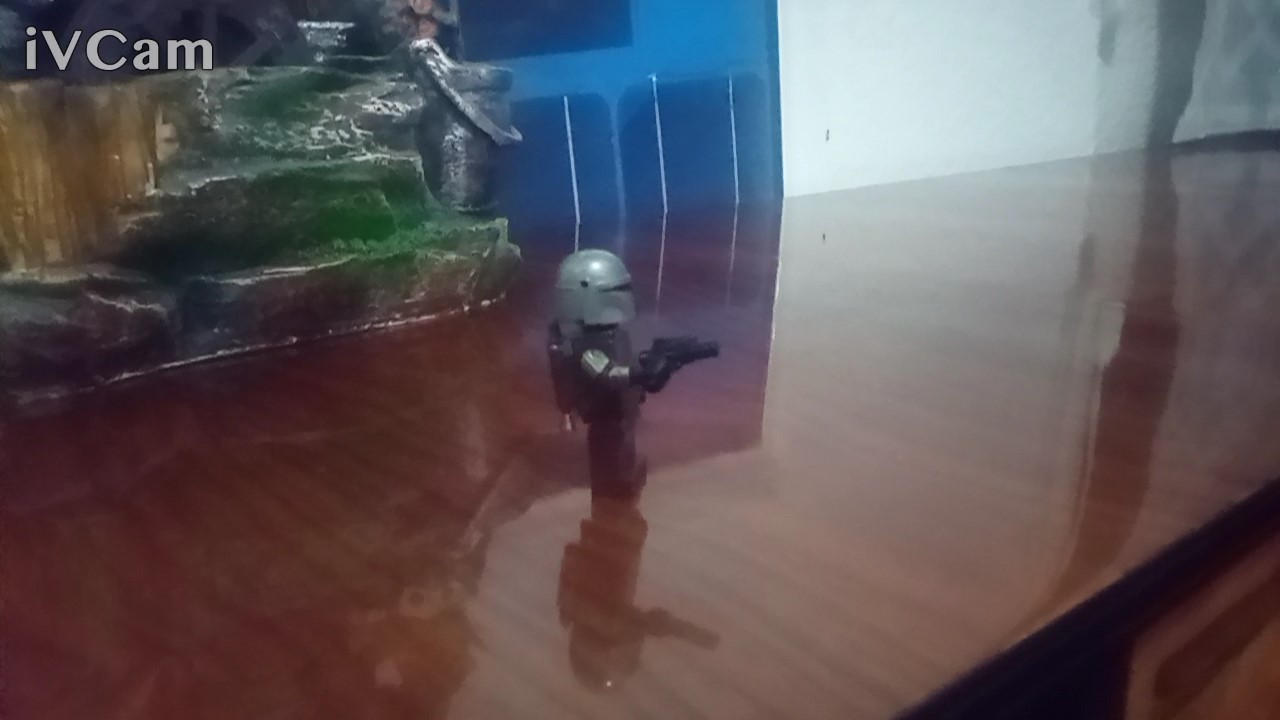mandalorian: (520, 236, 743, 525)
